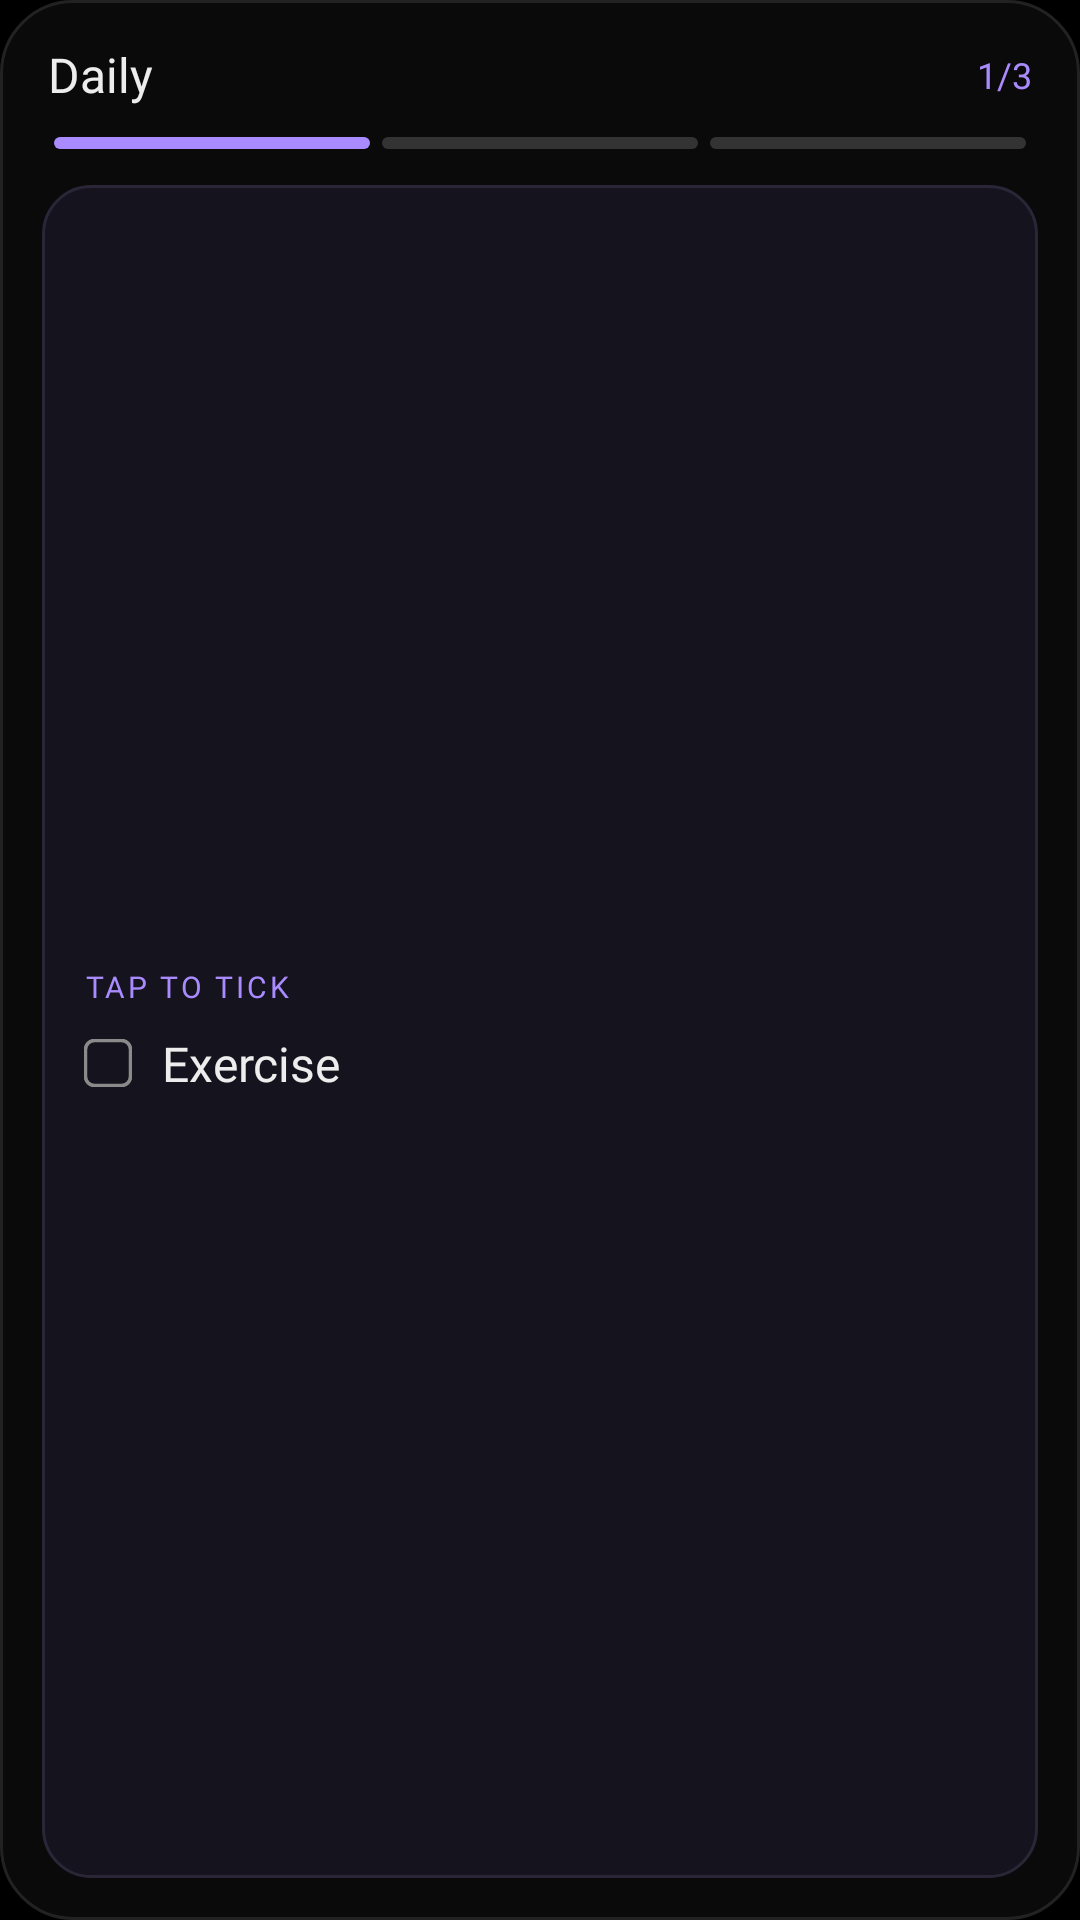

Where to tap for icons on this 1080px×1920px app screen, as point (x, y):
check off: point (108, 1063)
